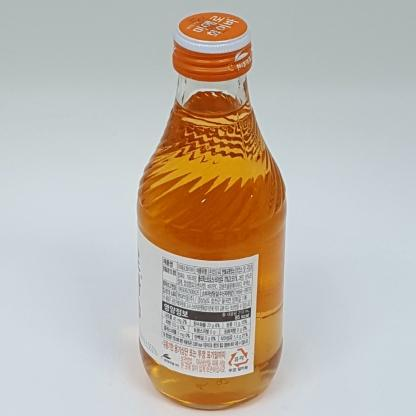--------210ML: (138, 12, 286, 410)
